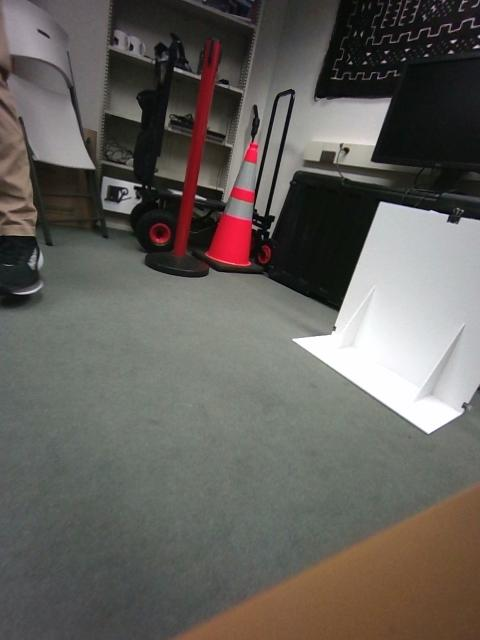block: (107, 366, 166, 449)
